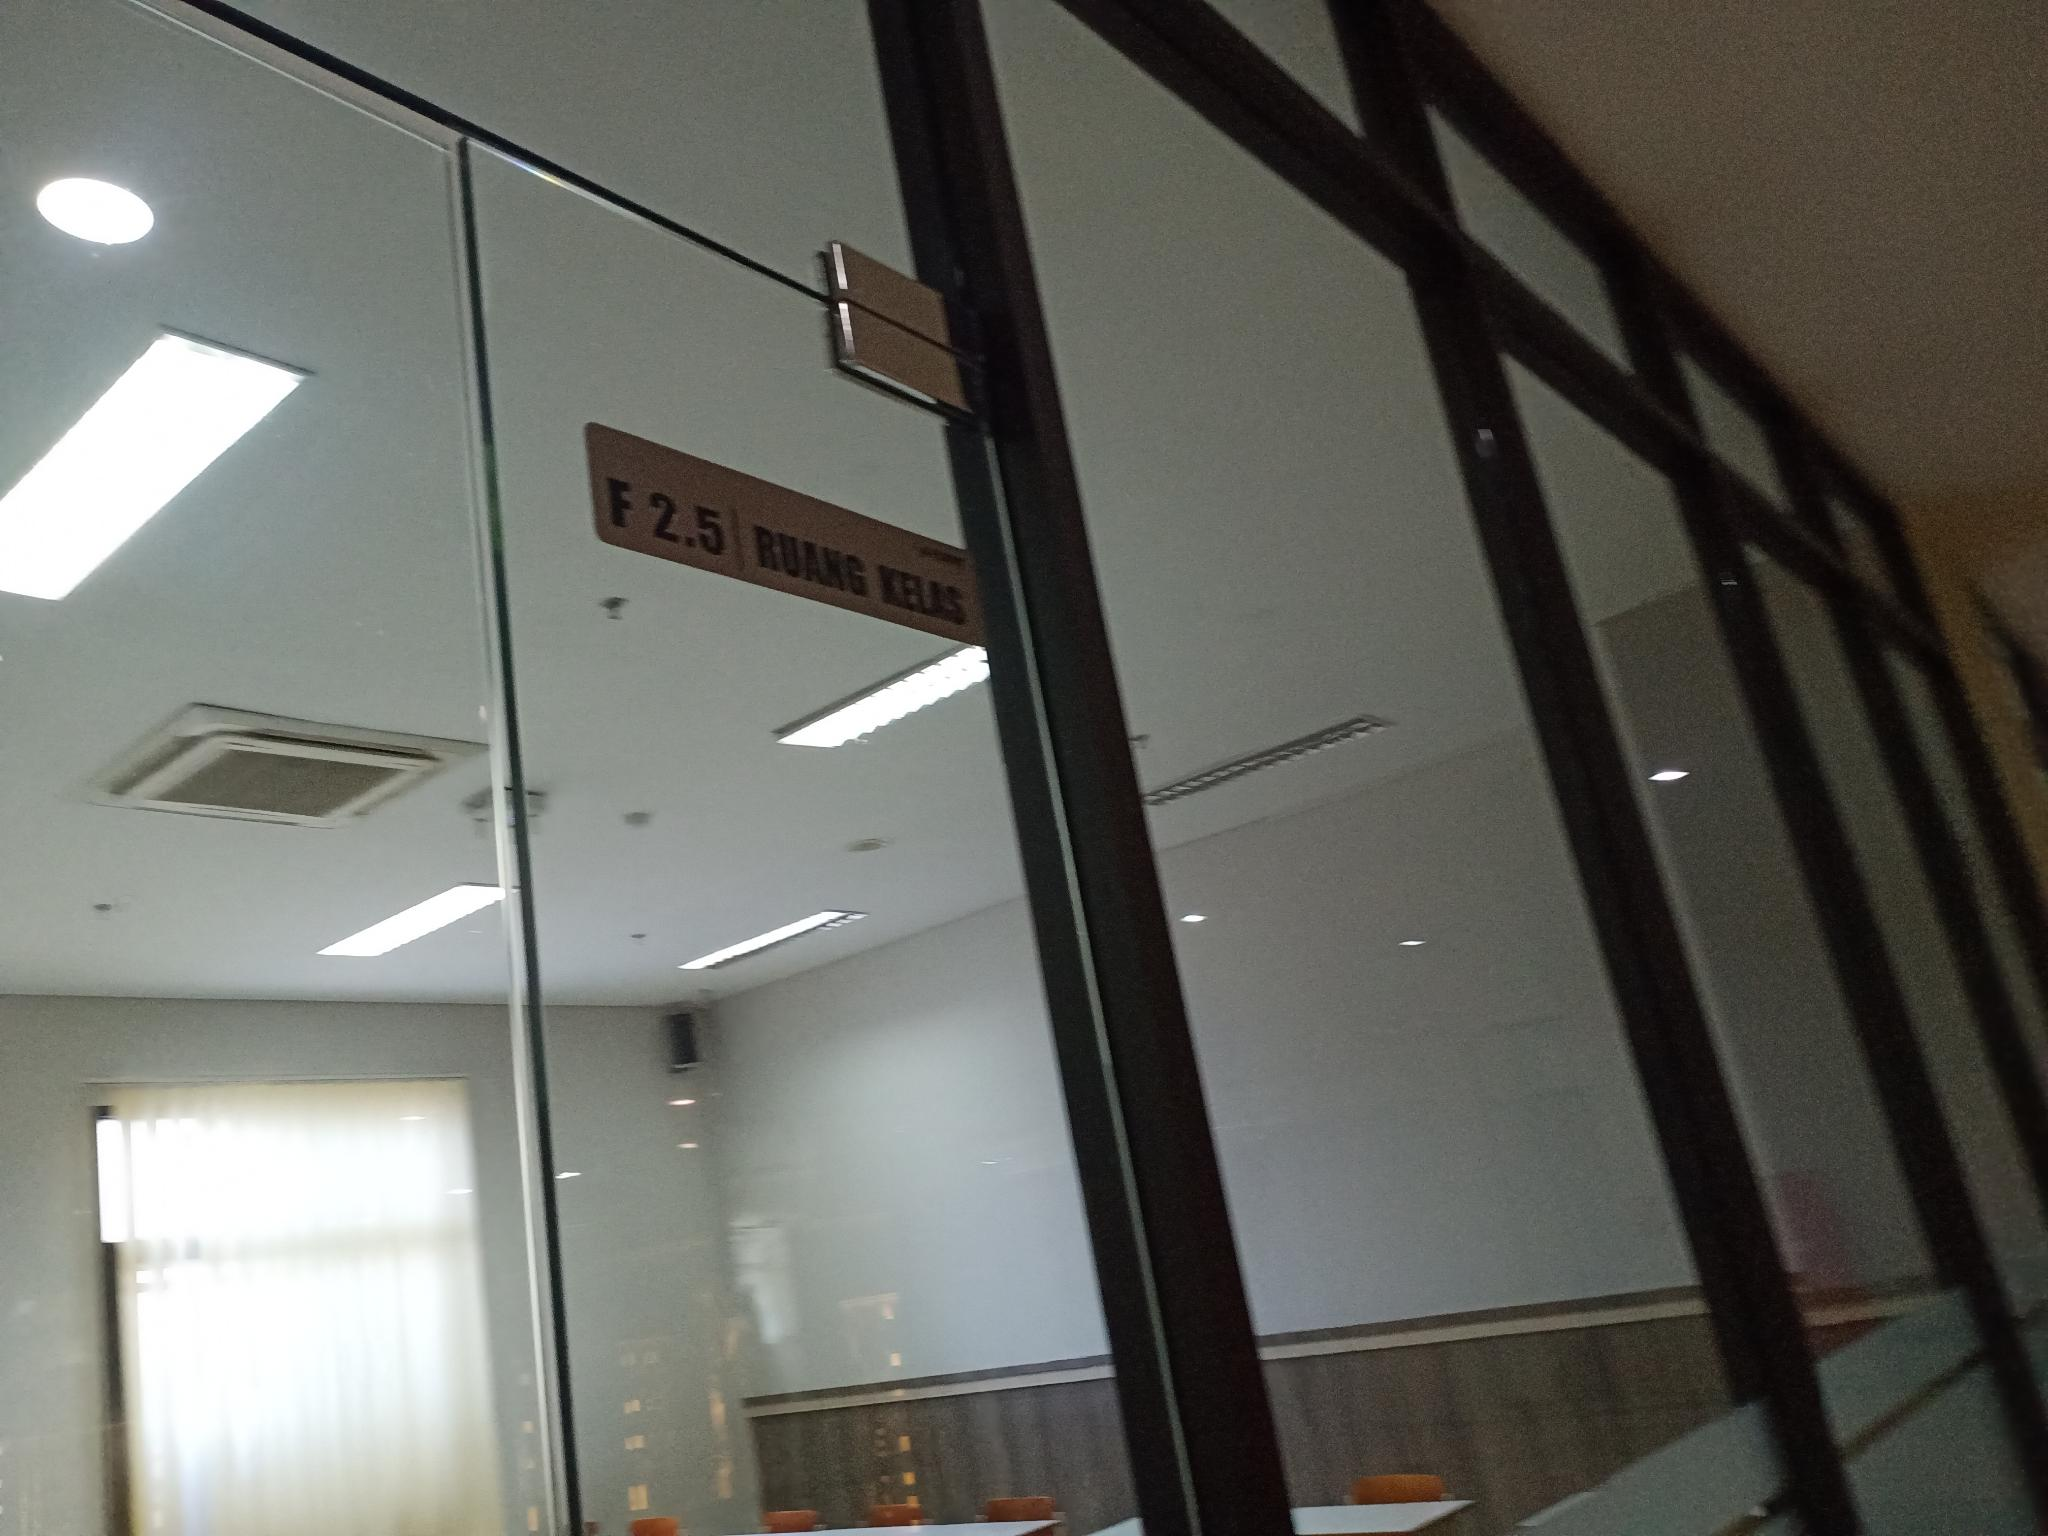plate: (582, 419, 989, 649)
